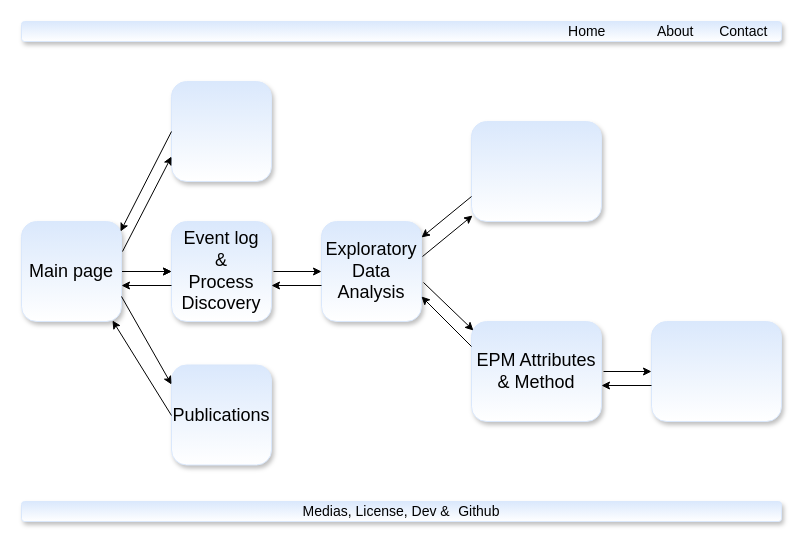
Some shapes in this 805 by 546 pixel diagram are drawn without their labels. Here are the shapes that lost their labels. From the top down, the centre of each, then its label:
pixel 222 132: Tutorial
pixel 537 172: Preprocessing
pixel 717 372: Process Discovery
